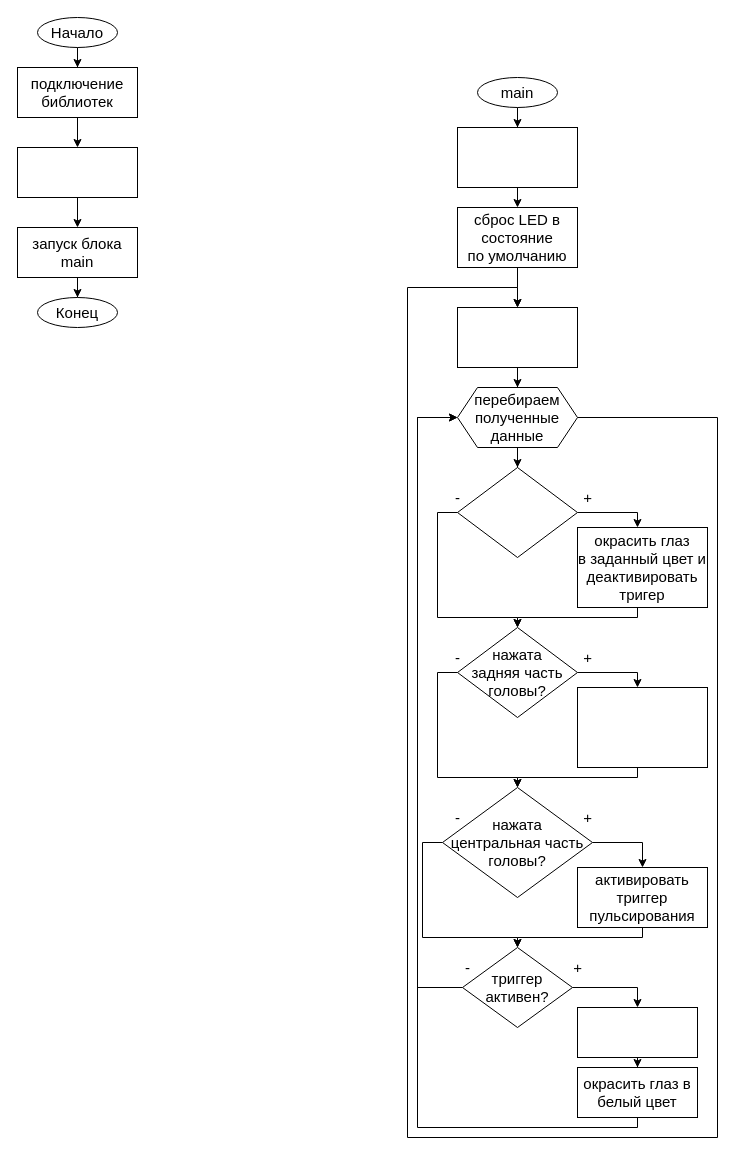
This 743x1163 diagram has some shape labels left out. The box of each missing label's shape, as (x1, y1, x2, y2) in pixels:
нажата передняя часть головы?: (456, 466, 578, 558)
окрасить глаз в белый цвет и деактивировать триггер: (576, 686, 708, 768)
окрасить глаз в заданный цвет: (576, 1006, 698, 1058)
описание main: (16, 146, 138, 198)
подключение интефейсов ALProxy: (456, 126, 578, 188)
получаем состояния сенсоров: (456, 306, 578, 368)
